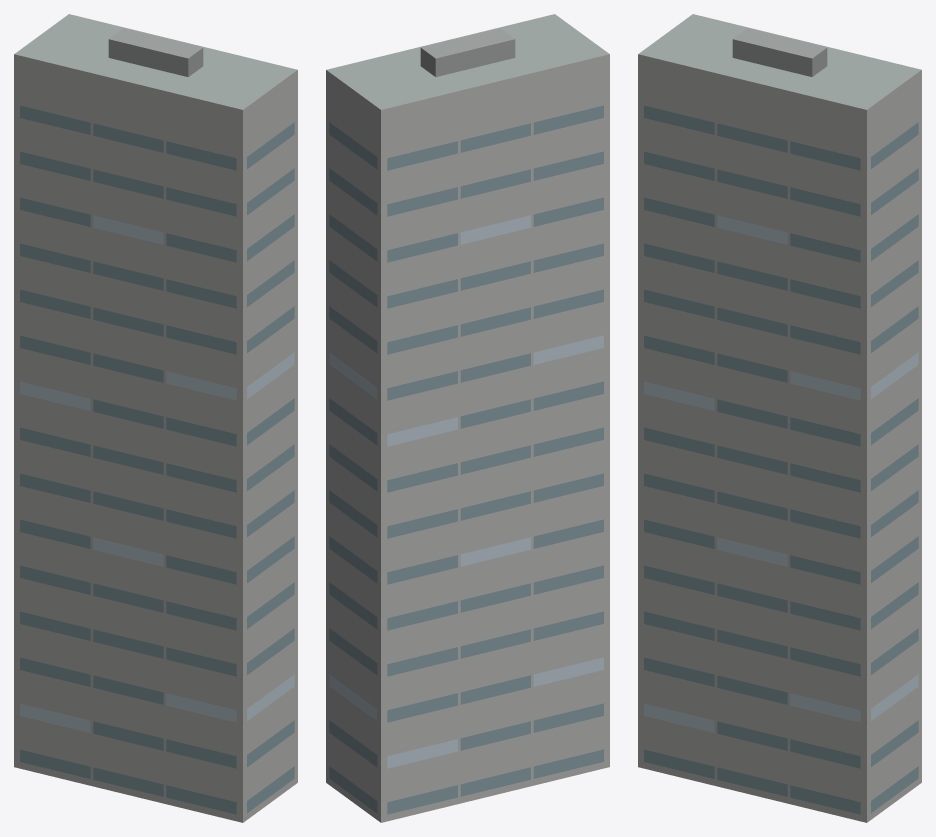
Rendered from fallback-jamsil-ricenz-261.glb.
3 views of the same model, side by side, from view 1: azimuth 90°, elevation 25°; view 2: azimuth 150°, elevation 25°; view 3: azimuth 270°, elevation 25° (orthographic).
Visible parts, largest first — view 1: fallback-jamsil-ricenz-261; view 2: fallback-jamsil-ricenz-261; view 3: fallback-jamsil-ricenz-261.
Boxes of the visible parts, x1,y1,x2,y2 form: fallback-jamsil-ricenz-261: (14,14,297,822); fallback-jamsil-ricenz-261: (326,14,609,822); fallback-jamsil-ricenz-261: (638,14,921,822).
Bounding box in the file's own units: 26.45 × 94 × 33.03.
